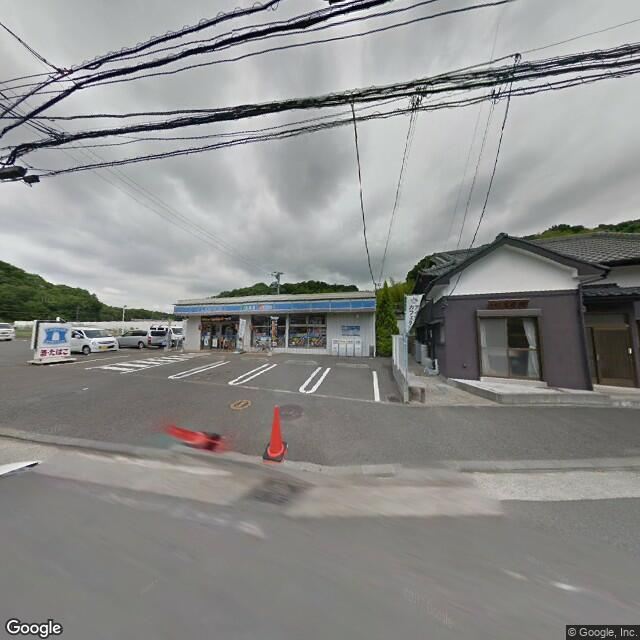lawson: (171, 294, 378, 320), (37, 322, 71, 347)
